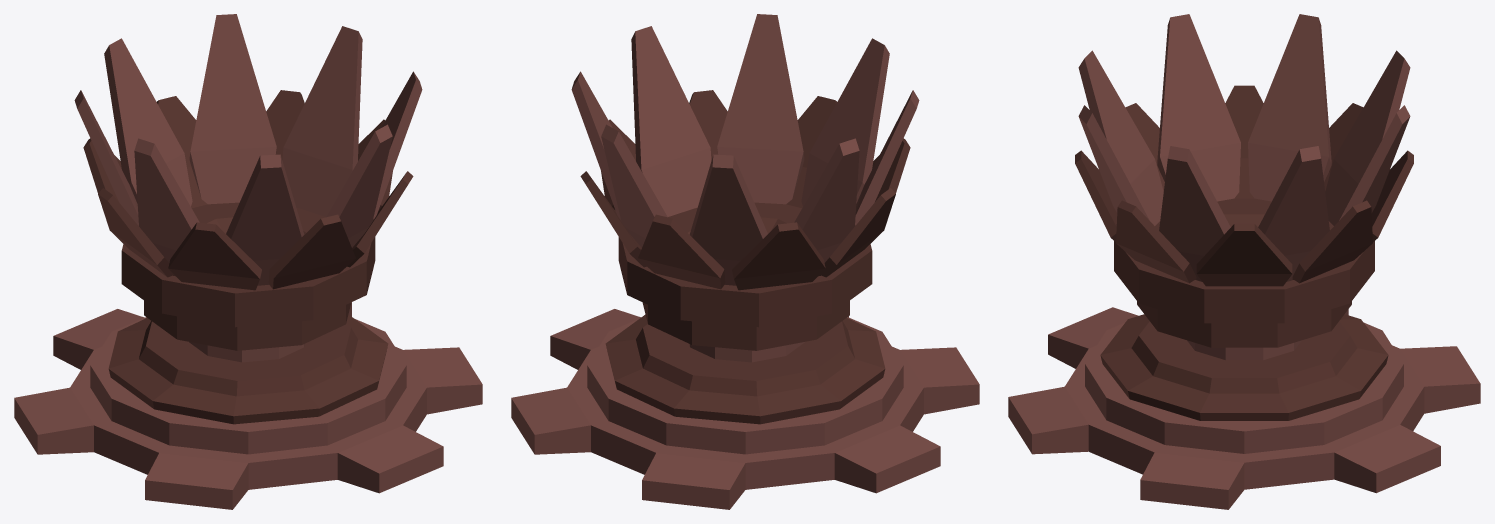
File: teleporter2.glb
The picture shows the model from 3 angles, left to right: view 1: azimuth 30°, elevation 25°; view 2: azimuth 150°, elevation 25°; view 3: azimuth 270°, elevation 25°; orthographic projection.
Visible parts, largest first — view 1: _MeshInstance3D_213, _MeshInstance3D_214; view 2: _MeshInstance3D_213, _MeshInstance3D_214; view 3: _MeshInstance3D_213, _MeshInstance3D_214.
Boxes of the visible parts, <box> form: _MeshInstance3D_213: <box>14,202,482,509</box>; _MeshInstance3D_214: <box>74,14,422,290</box>; _MeshInstance3D_213: <box>511,202,979,509</box>; _MeshInstance3D_214: <box>571,14,919,290</box>; _MeshInstance3D_213: <box>1008,198,1480,509</box>; _MeshInstance3D_214: <box>1075,14,1413,286</box>.
Size of the model in its own units: 1.38 by 1.07 by 1.38.
